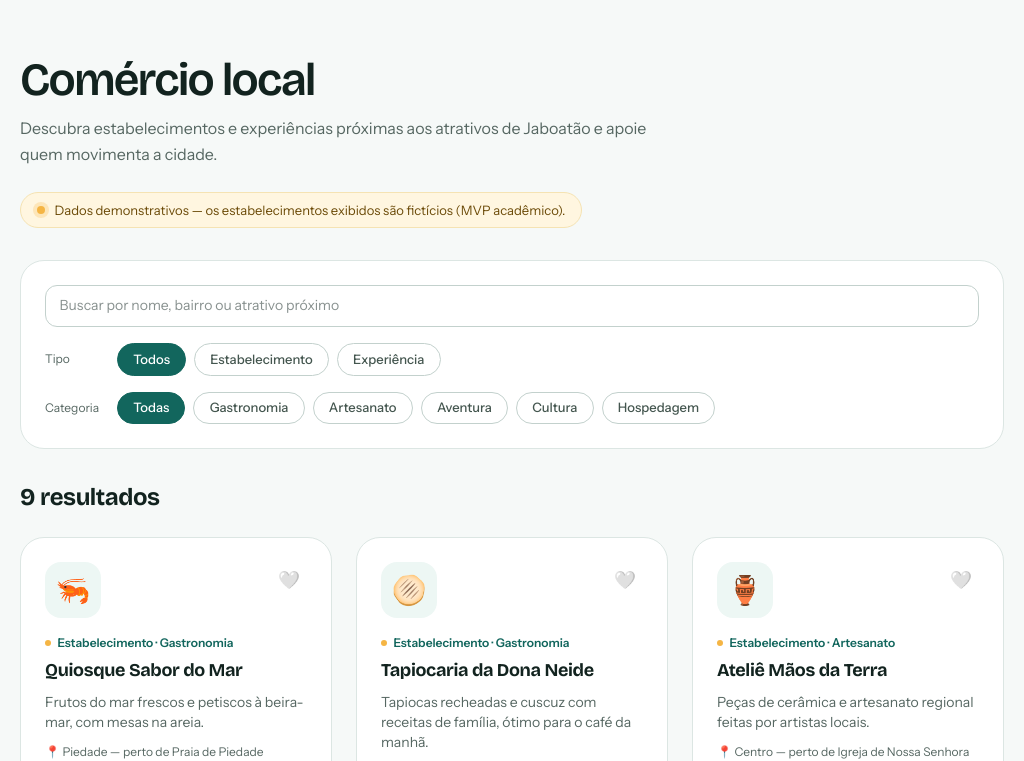
Test: Tela de Comércio local › busca por texto
This screenshot has width=1024, height=761.
Type "jangada" into the field with placeholder "Buscar por nome, bairro ou atrativo próximo" at [512, 306], box left=45, top=285, right=979, bottom=327
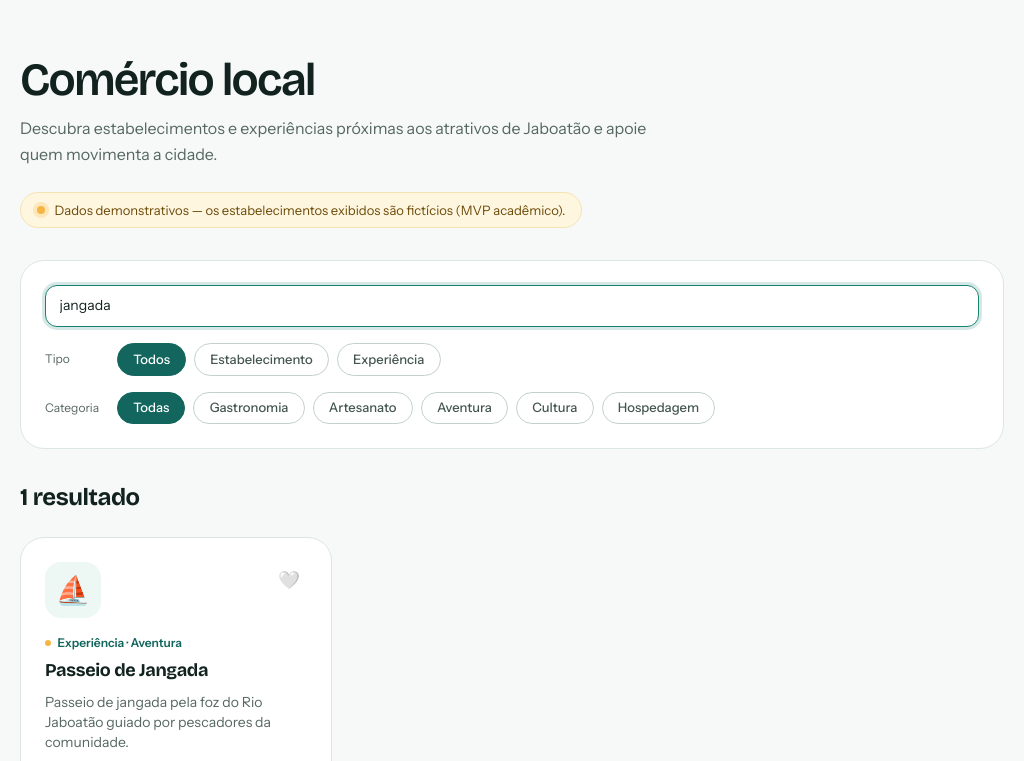
Expected: the heading "Passeio de Jangada" is shown, left=45, top=659, right=208, bottom=681
Now the heading "1 resultado" is shown, box left=20, top=483, right=140, bottom=511
